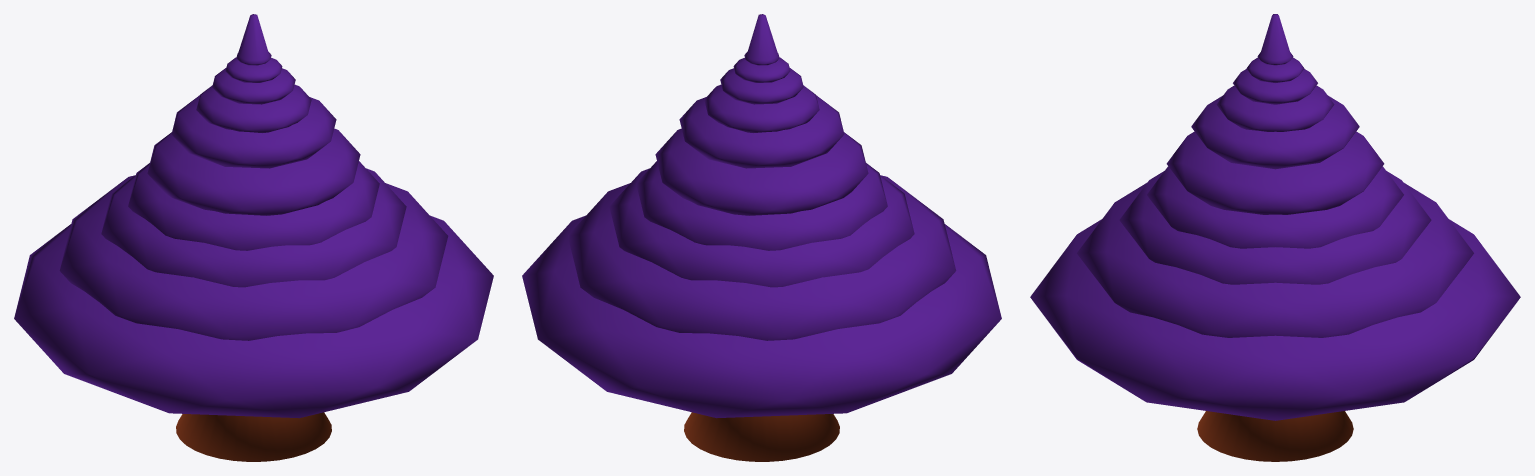
The model's file is derevo3Kosmos.fbx.
3 views of the same model, side by side, from view 1: azimuth 30°, elevation 25°; view 2: azimuth 150°, elevation 25°; view 3: azimuth 270°, elevation 25° (orthographic).
Visible parts, largest first — view 1: Цилиндр; view 2: Цилиндр; view 3: Цилиндр.
Boxes of the visible parts, x1=… form: Цилиндр: x1=14, y1=14, x2=493, y2=461; Цилиндр: x1=522, y1=14, x2=1001, y2=461; Цилиндр: x1=1030, y1=14, x2=1520, y2=461.
Bounding box in the file's own units: 1629 × 1594 × 1713.
